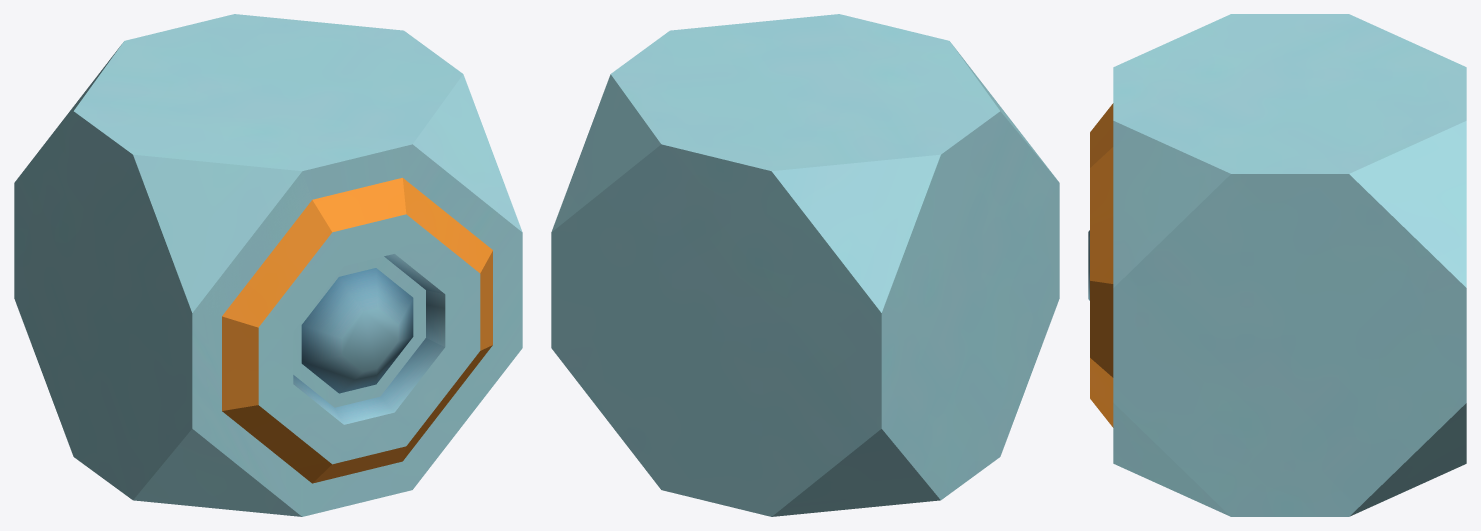
File: Shield 1x1.fbx
3 renders of one model, left to right at view 1: azimuth 30°, elevation 25°; view 2: azimuth 150°, elevation 25°; view 3: azimuth 270°, elevation 25°, orthographic.
Parts seen in each view (by area): view 1: Shield 1x1; view 2: Shield 1x1; view 3: Shield 1x1.
Part boxes in pixels (left/top/right/bottom): Shield 1x1: left=14, top=14, right=522, bottom=516; Shield 1x1: left=551, top=14, right=1059, bottom=516; Shield 1x1: left=1088, top=14, right=1466, bottom=516.
Bounding box in the file's own units: 100 × 100 × 100.
